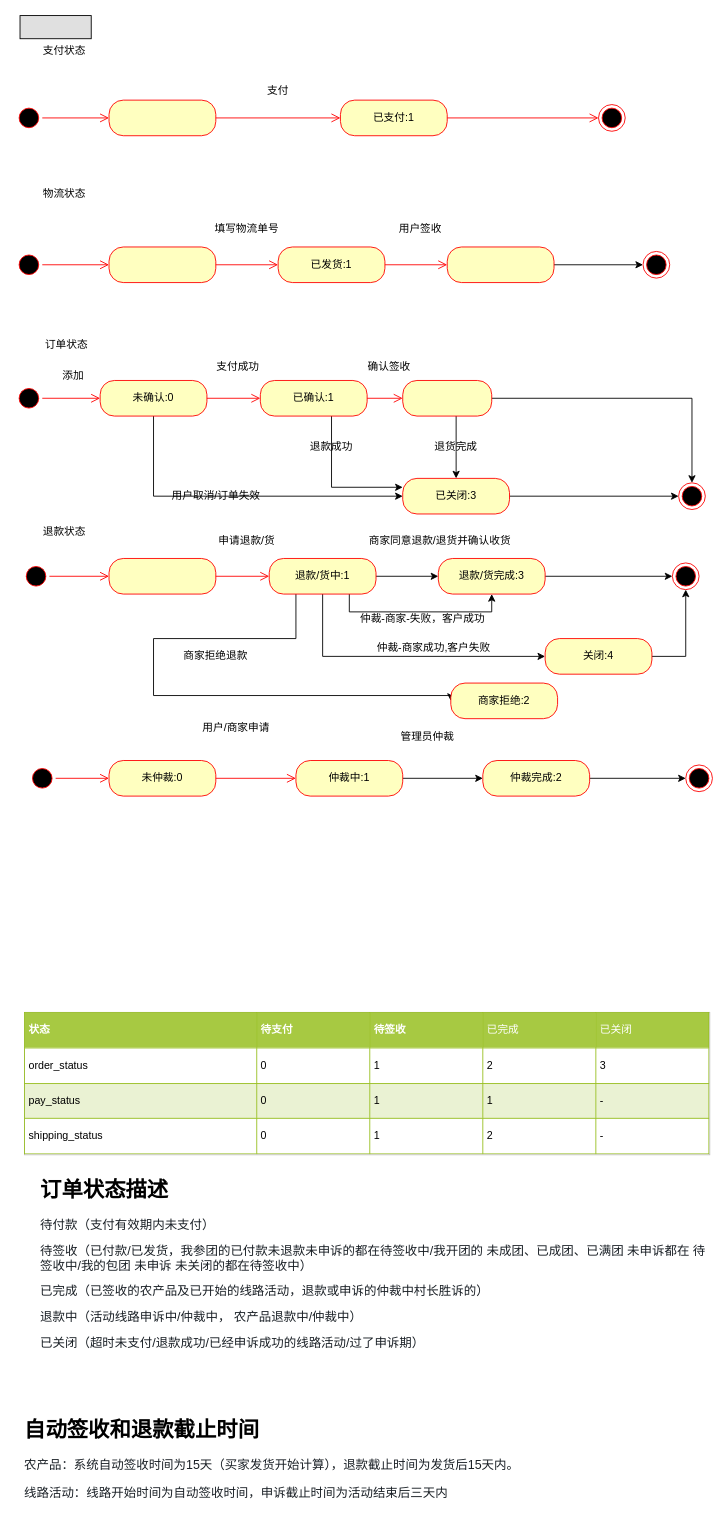
Image size: 728x1535. Some labels were removed from this diagram. Here are the shapes that lost their labels. From the top down, the centre of each, then its label:
the point at 55,27: 订单相关
the point at 162,117: 未支付:0
the point at 162,264: 未发货:0
the point at 500,264: 已签收:2
the point at 447,398: 已完成:2
the point at 162,576: 未退款/货:0
